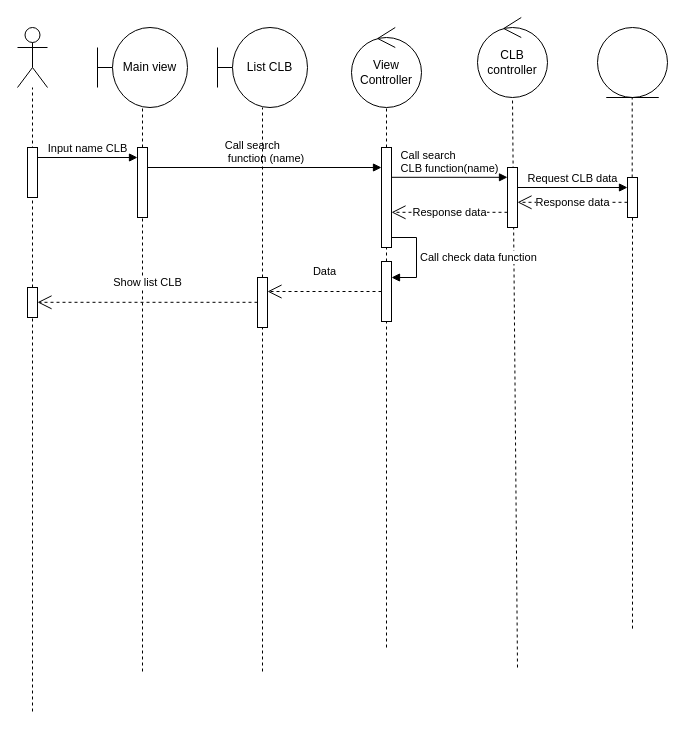
The diagram is 685 pixels wide and 730 high, and some of its shapes have lost their labels. The centre of each missing label's shape, as x and y in pixels:
"Actor" goes at point (32, 57).
"Model" goes at point (632, 62).
